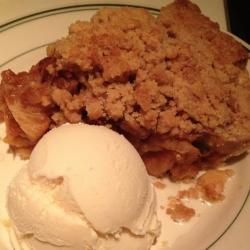apple_pie: (2, 6, 250, 179)
icecream: (7, 123, 156, 248)
